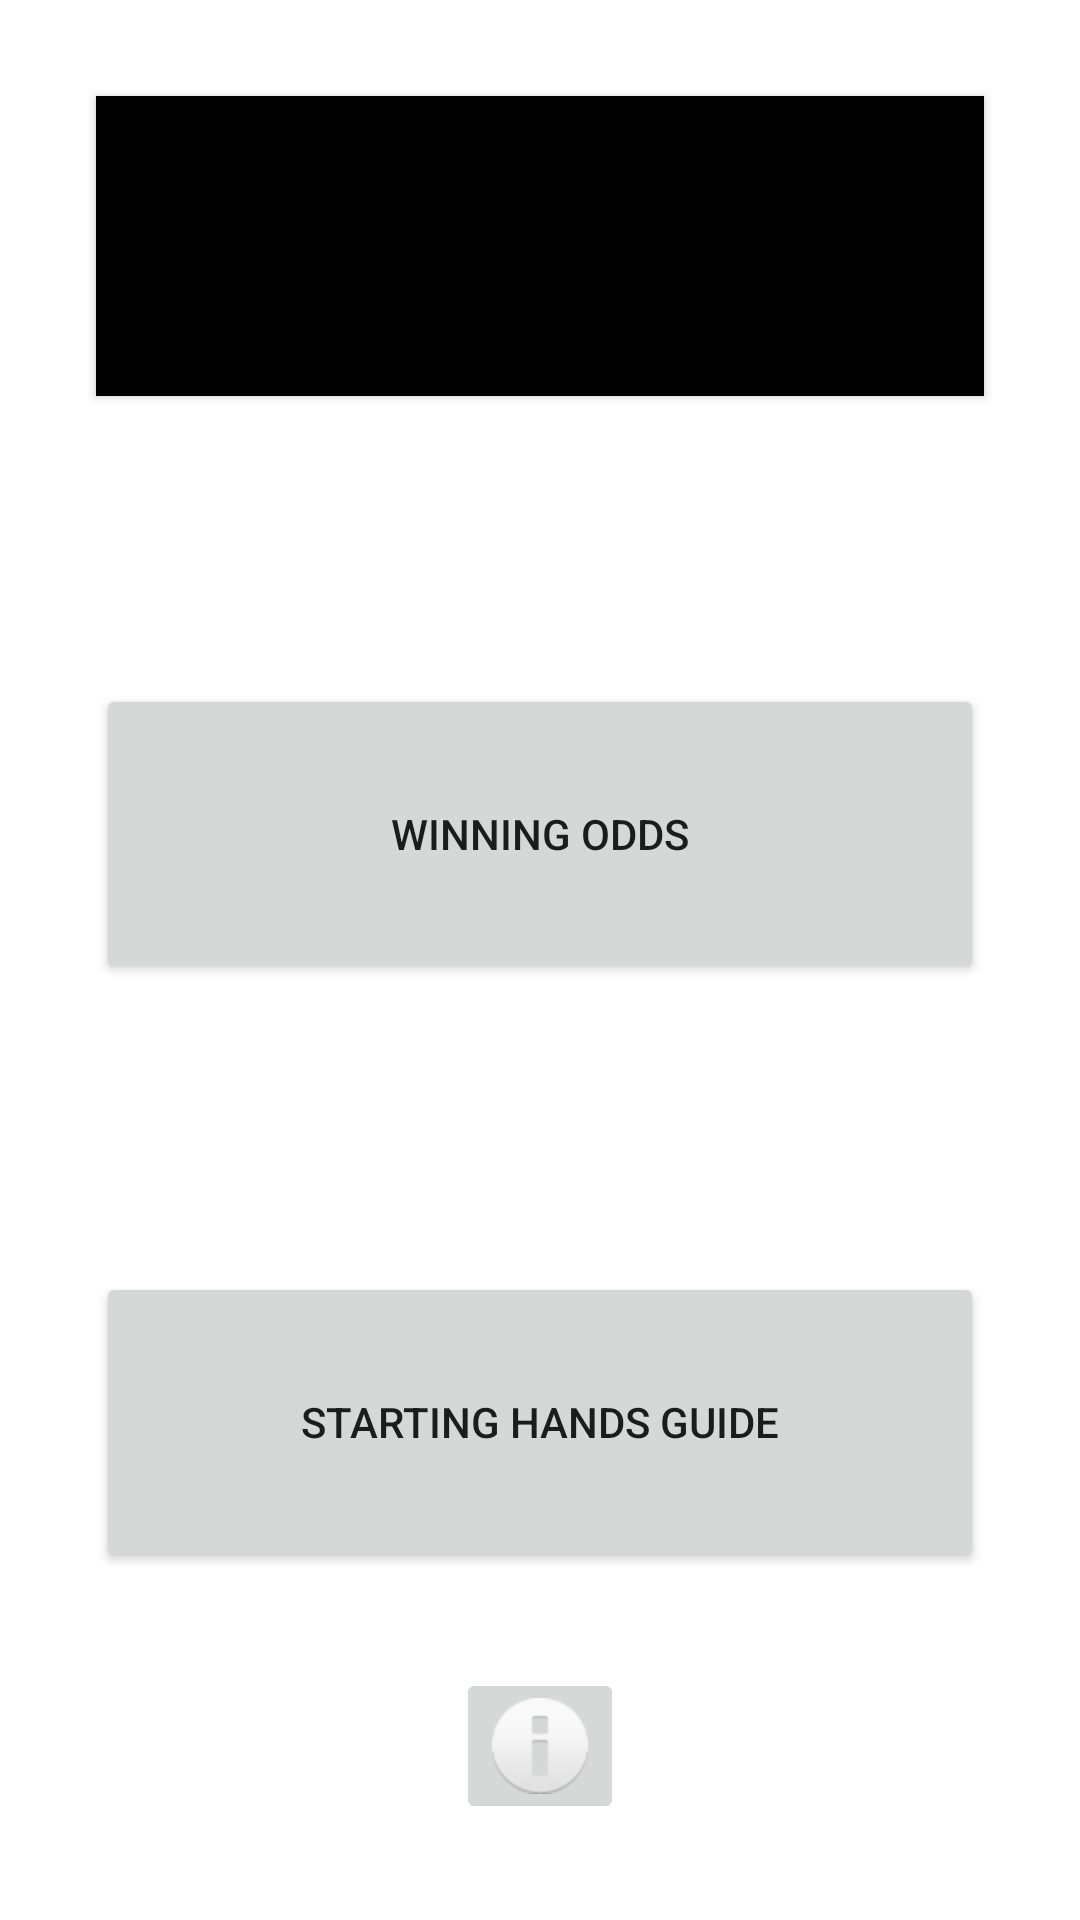

Where to tap for icons on this 1080 x 1920 app screen, as (x=x, y=y):
More Info: (x=540, y=1746)
